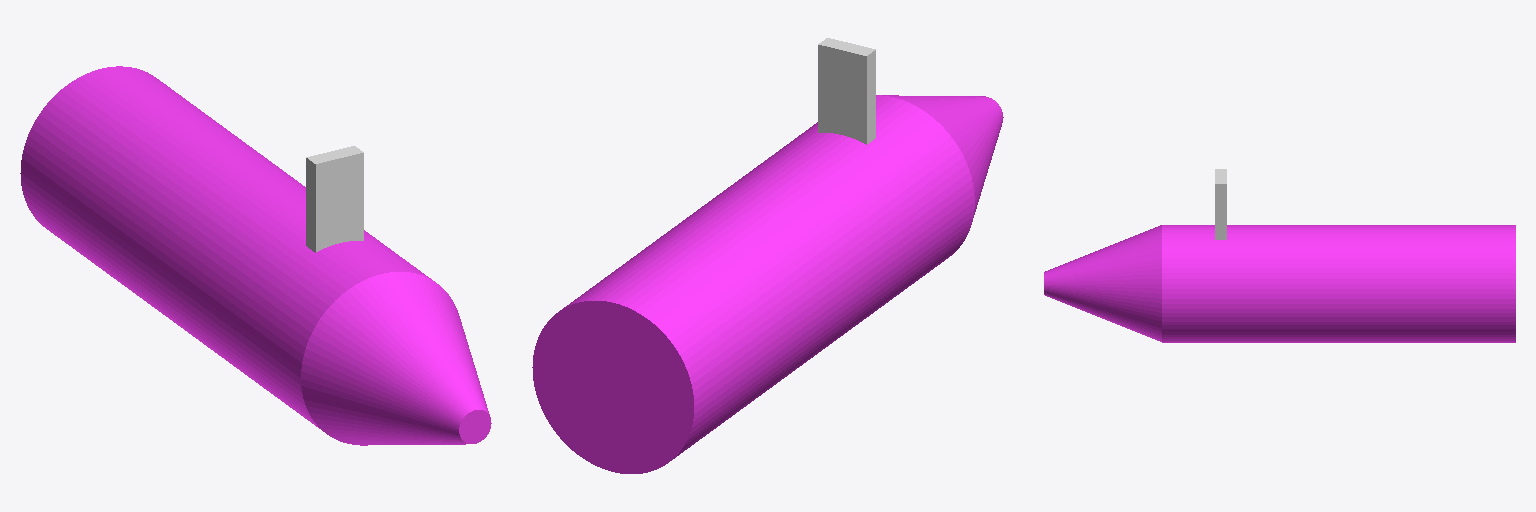
URDF robot description (dispenser_4):
<?xml version="0.0" ?>
<robot name="dispenser_4">
  <link name="base_link">
  <contact>
      <lateral_friction value="1"/>
  </contact>
    <inertial>
      <origin rpy="0 0 0" xyz="0 0 0"/>
       <mass value="0.2"/>
       <inertia ixx="0.001" ixy="0" ixz="0" iyy="0.001" iyz="0" izz="0.001"/>
    </inertial>
    <visual>
      <origin rpy="0 0 0" xyz="0 0 0"/>
      <geometry>
				<mesh filename="dispenser.obj" scale="0.001 0.001 0.001"/>
      </geometry>
       <material name="purpleish">
        <color rgba="1 0.3 1 1"/>
      </material>
    </visual>
    <collision>
      <origin rpy="0 0 0" xyz="0 0 0"/>
      <geometry>
				<mesh filename="dispenser.obj" scale="0.001 0.001 0.001"/>
      </geometry>
    </collision>
  </link>
  <link
    name="knob">
    <inertial>
      <origin xyz="0 0 0" rpy="0 0 0" />
      <mass
        value="0.001" />
      <inertia
        ixx="2.66832029033166E-07"
        ixy="1.66142314639824E-15"
        ixz="1.45945633322873E-07"
        iyy="1.3889233257419E-06"
        iyz="2.82951161241588E-15"
        izz="1.26603336914415E-06" />
    </inertial>
    <visual>
      <origin xyz="0 0 0" rpy="0 0 0" />
      <geometry>
        <mesh filename="../cube_like/cube.obj" scale="0.03 0.01 0.1" />
      </geometry>
      <material name="">
        <color rgba="0.9 0.9 0.9 1" />
      </material>
    </visual>
    <collision>
      <origin xyz="0 0 0" rpy="0 0 0" />
      <geometry>
        <mesh filename="../cube_like/cube.obj" scale="0.03 0.01 0.1" />
      </geometry>
    </collision>
  </link>
  <joint
    name="knob_joint"
    type="revolute">
    <origin xyz="0 0.2 0.05" rpy="0 0 0" />
    <parent link="base_link" />
    <child link="knob" />
    <axis xyz="1 0 0" />
    <limit lower="-1.57" upper="1.57" velocity="2.0" effort="1" />
  </joint>
</robot>

--- What the picture shows (computed from the rendered views, not written in the file) ---
3 views of the same robot in one strip: view 1: azimuth 30°, elevation 25°; view 2: azimuth 150°, elevation 25°; view 3: azimuth 270°, elevation 25° (orthographic).
Model dispenser_4 with 2 links and 1 joints (1 revolute), rooted at base_link, posed all joints at 0.
Links seen in each view (by area): view 1: base_link, knob; view 2: base_link, knob; view 3: base_link, knob.
Link boxes in pixels (x1,y1,x2,y2): base_link: (20, 66, 491, 445); knob: (306, 146, 363, 252); base_link: (532, 95, 1003, 473); knob: (818, 38, 875, 144); base_link: (1044, 225, 1515, 342); knob: (1215, 169, 1226, 239).
Size in the robot's own frame: 0.1 by 0.4 by 0.15 metres.
2 mesh visuals loaded from 2 distinct referenced files (2 OBJ).
